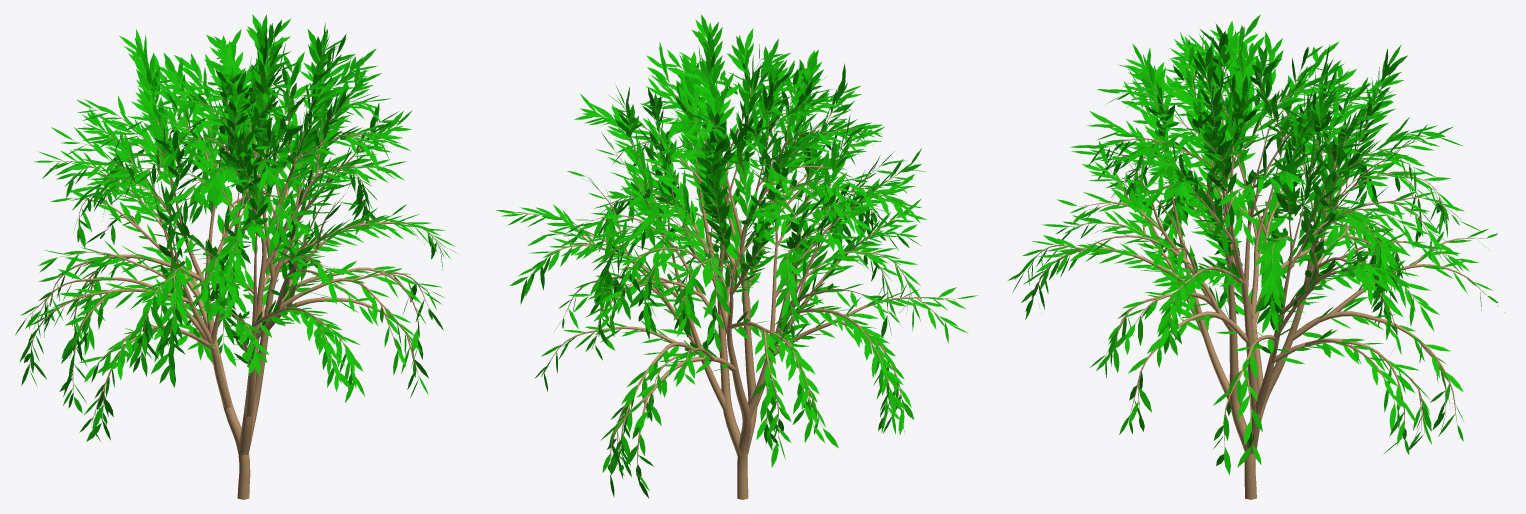
The model's file is Tree002.fbx.
3 renders of one model, left to right at view 1: azimuth 30°, elevation 25°; view 2: azimuth 150°, elevation 25°; view 3: azimuth 270°, elevation 25°, orthographic. The views are drawn at different scales.
Parts seen in each view (by area): view 1: leaves, tree; view 2: leaves, tree; view 3: leaves, tree.
Boxes of the visible parts, <box> form: leaves: <box>15,14,458,442</box>; tree: <box>28,49,443,499</box>; leaves: <box>496,14,977,498</box>; tree: <box>519,53,955,499</box>; leaves: <box>1007,14,1505,474</box>; tree: <box>1023,47,1491,499</box>.
Size of the model in its own units: 6.28 by 7.23 by 6.84.
